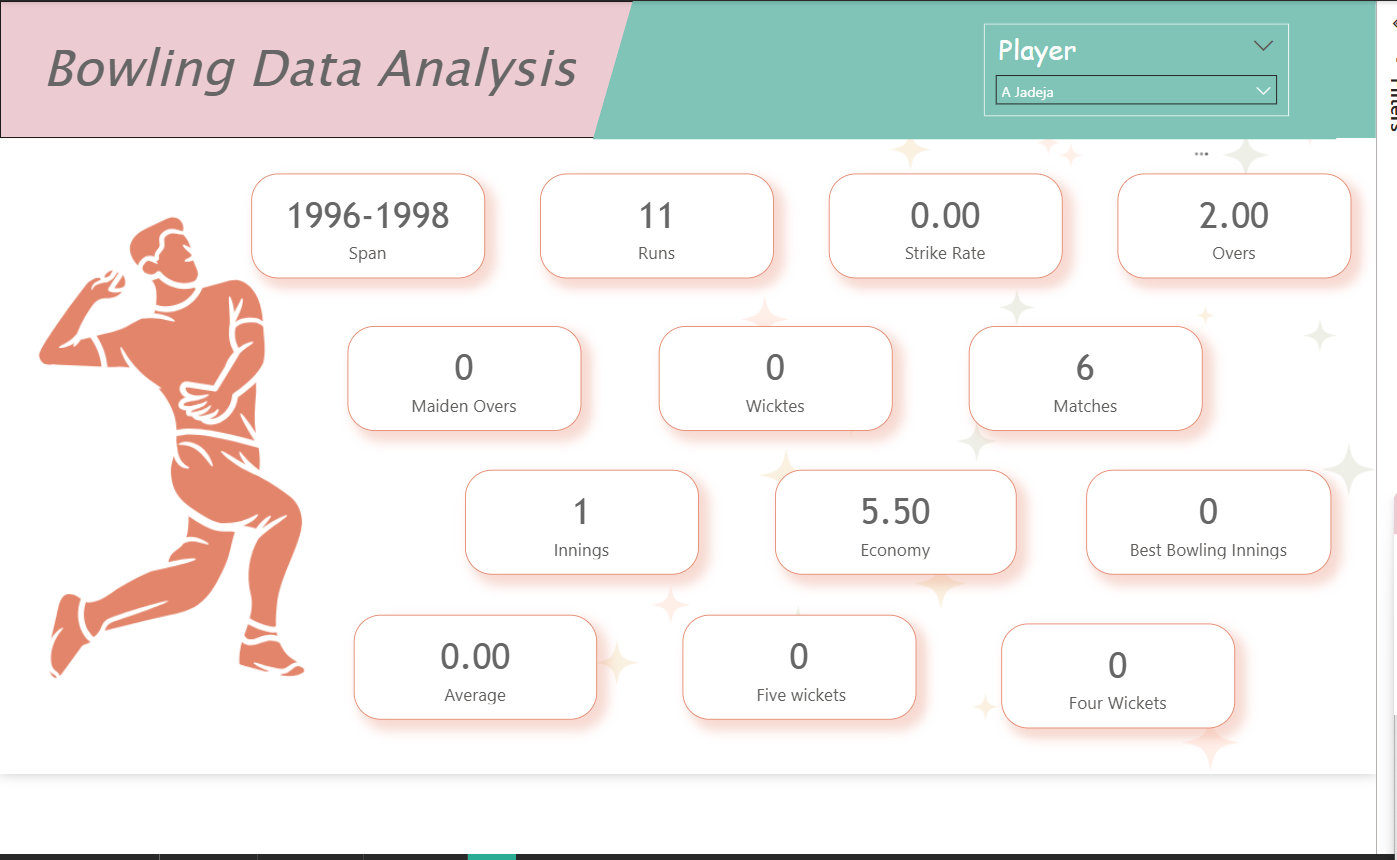

The page's visual inventory and layout, read from the dashboard file:
{"tool":"powerbi","page":{"name":"Bowling","canvas":[1280,720],"ordinal":1},"visuals":[{"type":"shape","box":[0,0,1132.1,127.6],"z":0},{"type":"shape","box":[551.2,0,729.1,129.1],"z":1000},{"type":"shape","box":[1168.9,1.4,111.1,126.2],"z":2000},{"type":"slicer","fields":{"Values":["Bowling.Player"]},"box":[915.1,20.9,283.7,86],"z":3000},{"type":"card","fields":{"Values":["Min(Bowling.Span)"]},"box":[233.7,160.5,217.4,97.7],"z":4000},{"type":"card","fields":{"Values":["Sum(Bowling.Runs)"]},"box":[502.3,160.5,217.4,97.7],"z":5000},{"type":"card","fields":{"Values":["Sum(Bowling.SR)"]},"box":[770.9,160.5,217.4,97.7],"z":6000},{"type":"card","fields":{"Values":["Sum(Bowling.Overs)"]},"box":[1039.5,160.5,217.4,97.7],"z":7000},{"type":"card","fields":{"Values":["Sum(Bowling.Mdns)"]},"box":[323.3,302.3,217.4,97.7],"z":8000},{"type":"card","fields":{"Values":["Sum(Bowling.WktsDescending)"]},"box":[612.2,302.3,217.4,97.7],"z":9000},{"type":"card","fields":{"Values":["Sum(Bowling.Mat)"]},"box":[901.2,302.3,217.4,97.7],"z":10000},{"type":"card","fields":{"Values":["Sum(Bowling.Inns)"]},"box":[432.6,436,217.4,97.7],"z":11000},{"type":"card","fields":{"Values":["Sum(Bowling.Econ)"]},"box":[720.9,436,224.4,97.7],"z":12000},{"type":"card","fields":{"Values":["Min(Bowling.BBI)"]},"box":[1010.5,436,227.9,97.7],"z":13000},{"type":"card","fields":{"Values":["Sum(Bowling.Ave)"]},"box":[329.1,570.9,226.7,97.7],"z":14000},{"type":"card","fields":{"Values":["Sum(Bowling.5)"]},"box":[634.9,570.9,217.4,97.7],"z":15000},{"type":"card","fields":{"Values":["Sum(Bowling.4)"]},"box":[931.4,579.1,217.4,97.7],"z":16000}]}

Visuals, with their boxes on the page's 1280x720 design canvas (x1, y1, x2, y2). These are canvas units, not pixel positions in the 1397x860 screenshot, which may show the page scaled, cropped or inside an application window:
shape: 0 0 1132 128
shape: 551 0 1280 129
shape: 1169 1 1280 128
slicer - Bowling.Player: 915 21 1199 107
card - Min(Bowling.Span): 234 160 451 258
card - Sum(Bowling.Runs): 502 160 720 258
card - Sum(Bowling.SR): 771 160 988 258
card - Sum(Bowling.Overs): 1040 160 1257 258
card - Sum(Bowling.Mdns): 323 302 541 400
card - Sum(Bowling.WktsDescending): 612 302 830 400
card - Sum(Bowling.Mat): 901 302 1119 400
card - Sum(Bowling.Inns): 433 436 650 534
card - Sum(Bowling.Econ): 721 436 945 534
card - Min(Bowling.BBI): 1010 436 1238 534
card - Sum(Bowling.Ave): 329 571 556 669
card - Sum(Bowling.5): 635 571 852 669
card - Sum(Bowling.4): 931 579 1149 677
